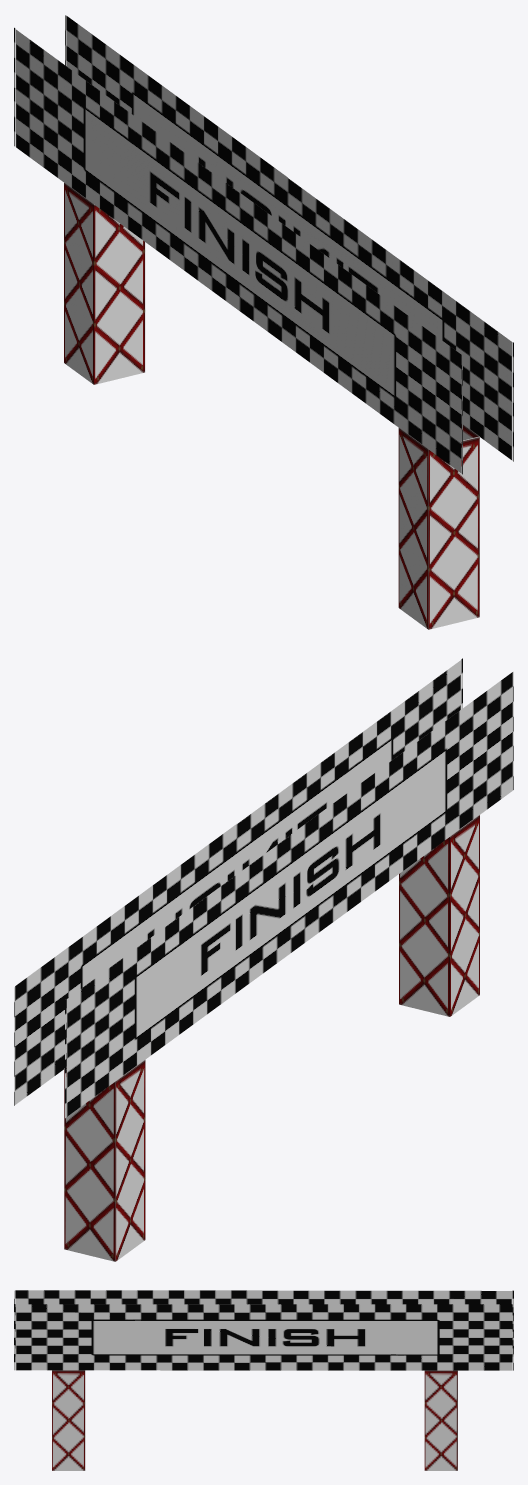
The model's file is Cong_chao.FBX.
3 renders of one model, top to bottom at view 1: azimuth 30°, elevation 25°; view 2: azimuth 150°, elevation 25°; view 3: azimuth 270°, elevation 25°, orthographic. The views are drawn at different scales.
Parts seen in each view (by area): view 1: Cong_chao; view 2: Cong_chao; view 3: Cong_chao.
Boxes of the visible parts, left/top/right/bottom form: Cong_chao: left=14, top=15, right=513, bottom=629; Cong_chao: left=14, top=658, right=513, bottom=1261; Cong_chao: left=14, top=1290, right=513, bottom=1470.
Bounding box in the file's own units: 3.39 × 18.93 × 51.39.
